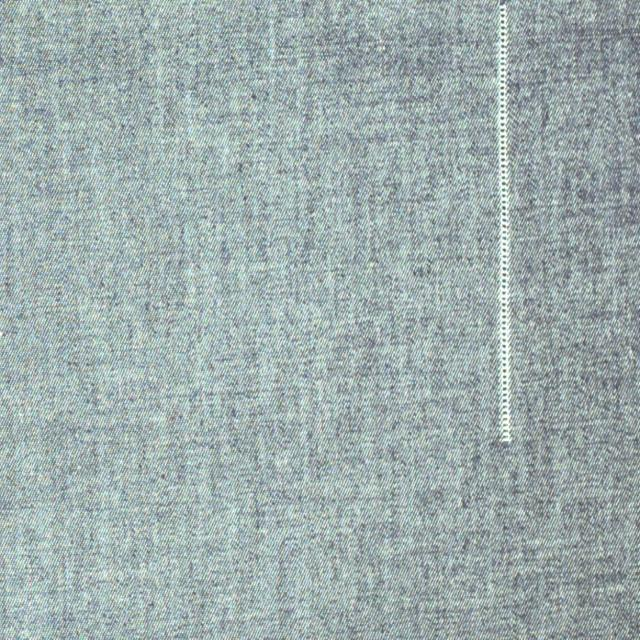Warp_Weft: (496, 0, 515, 447)
